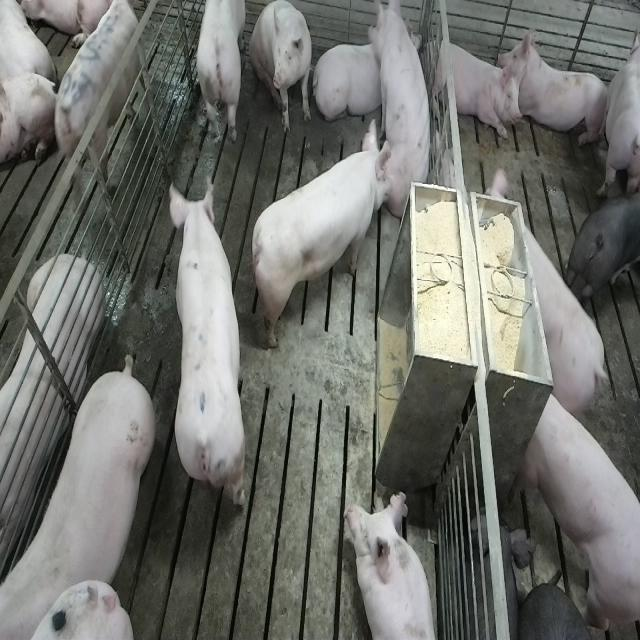Feeding: (246, 115, 387, 349)
Sitting: (371, 4, 435, 227), (249, 1, 314, 138)
Standing: (518, 385, 638, 631), (172, 178, 255, 526), (56, 0, 151, 204), (521, 218, 610, 421), (568, 190, 640, 309), (194, 2, 247, 148)
Sternal_lying: (0, 251, 102, 578), (346, 489, 440, 640), (502, 20, 611, 148), (426, 31, 522, 140), (315, 38, 386, 125)
